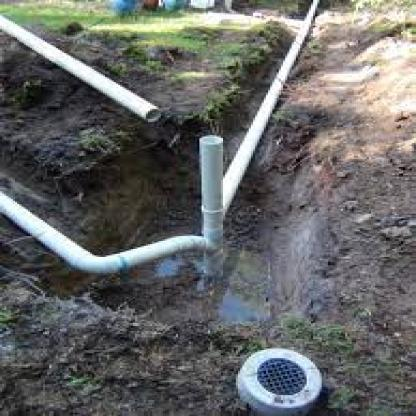PVC: (0, 1, 319, 276), (0, 14, 161, 121)
